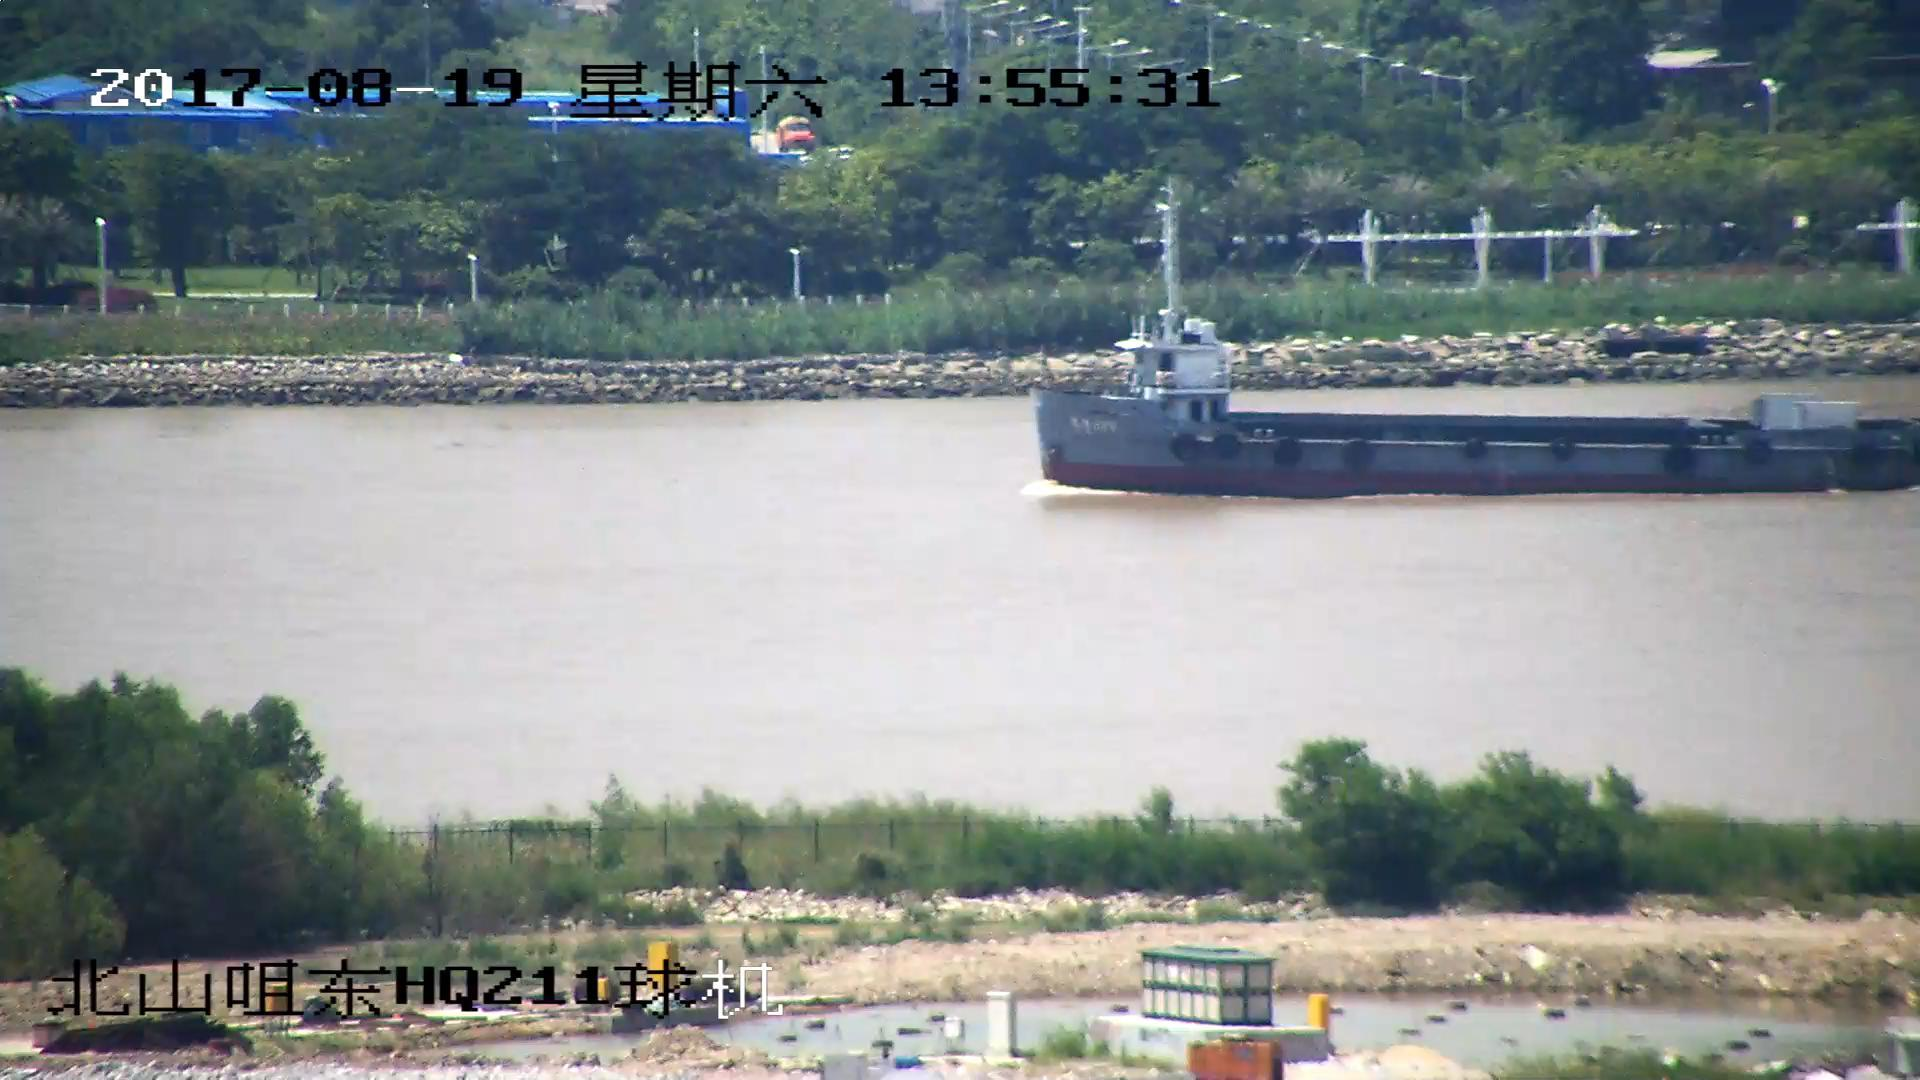Ship: (1033, 327, 1920, 496)
